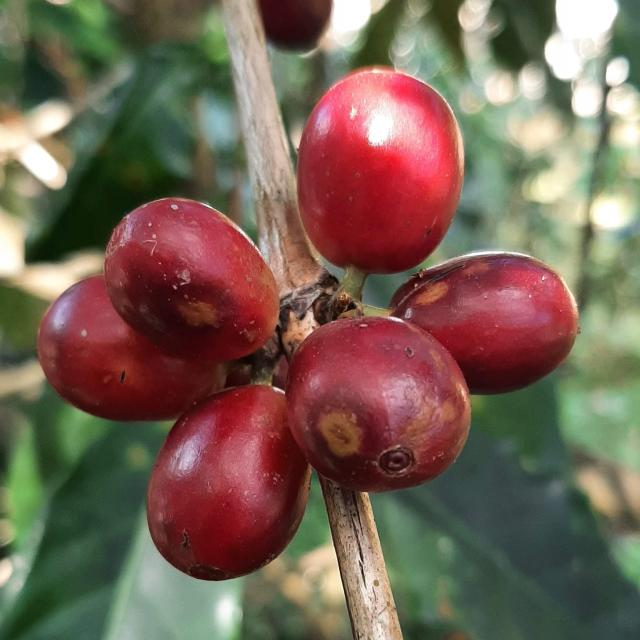red: (297, 67, 464, 299), (286, 317, 471, 493), (147, 385, 311, 582), (104, 198, 279, 361), (37, 275, 228, 422), (389, 252, 579, 395)
